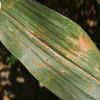Corn rust leaf: (0, 1, 99, 99)
